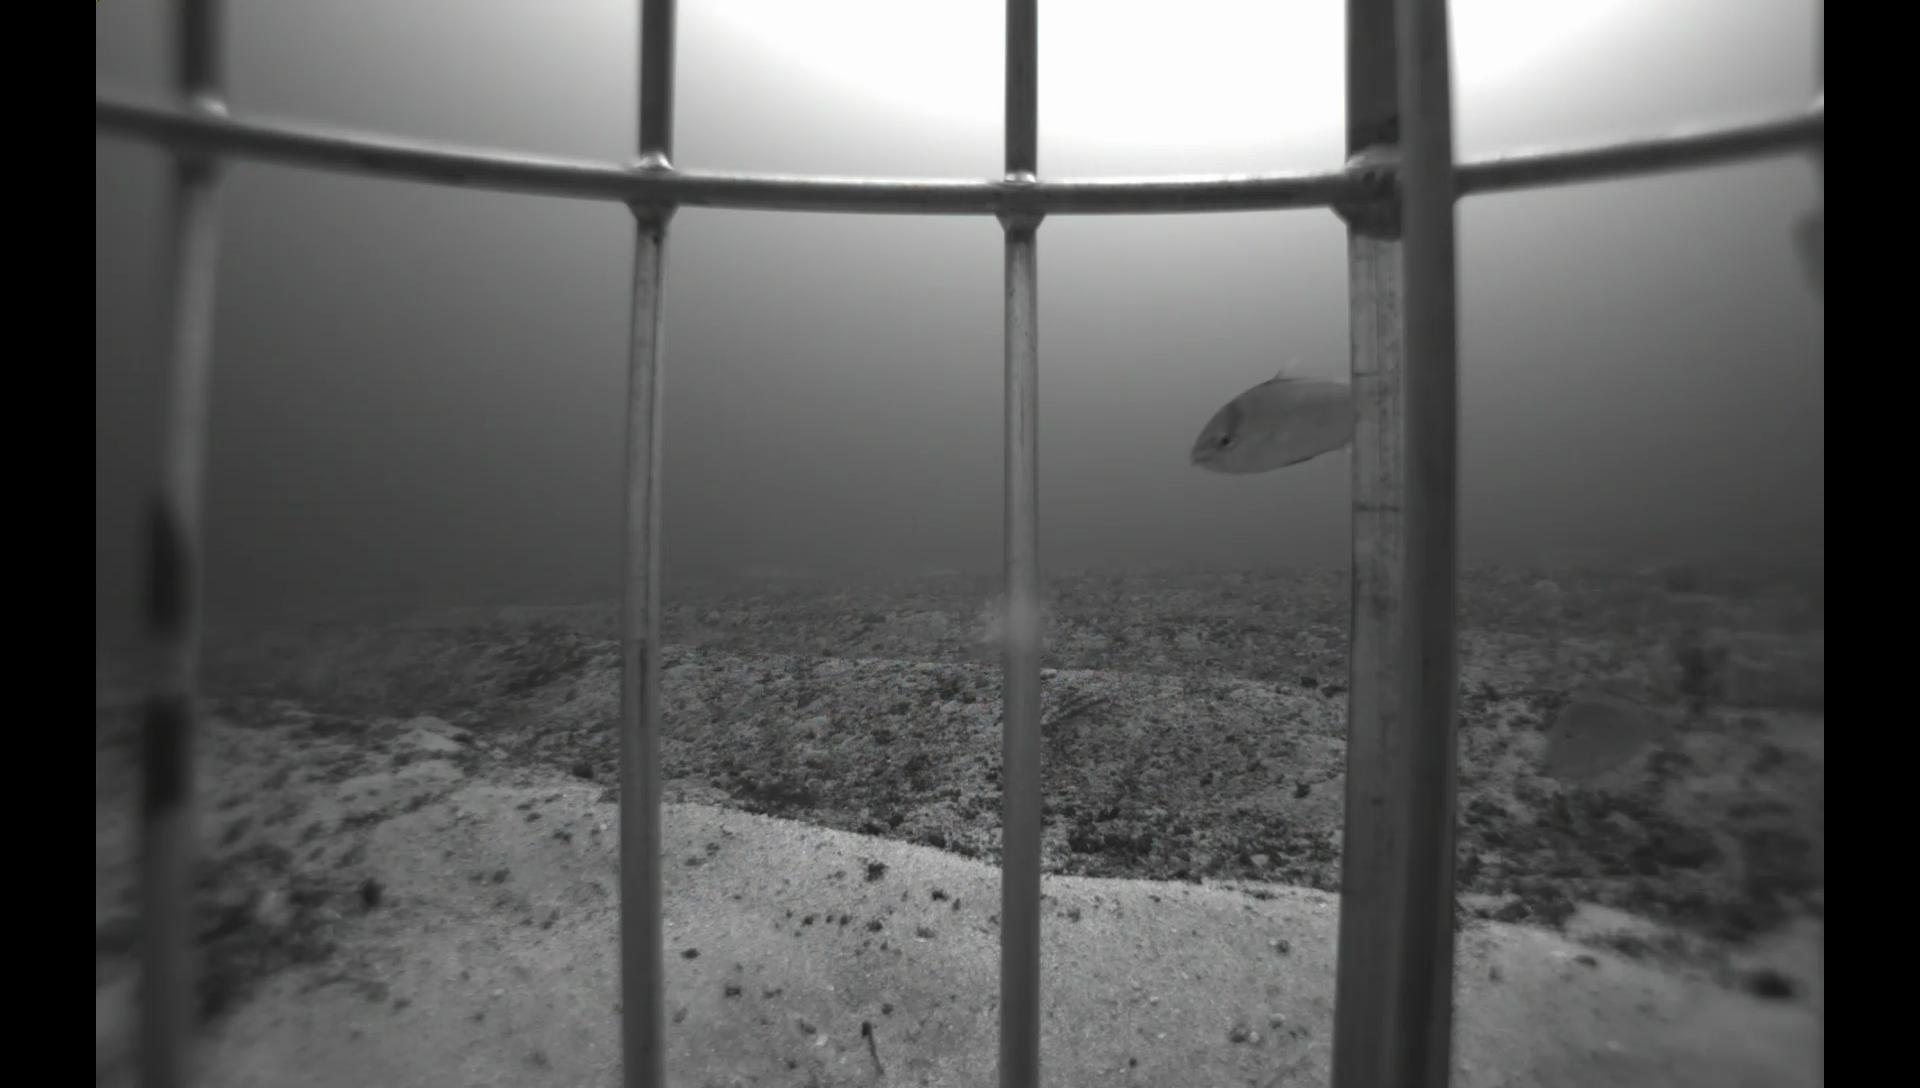CALAMUSPRORIDENS-170210605: (1520, 678, 1710, 790)
RHOMBOPLITESAURORUBENS-170152001: (1774, 191, 1824, 311)
SERIOLAFASCIATA-170113103: (1171, 353, 1352, 495)
